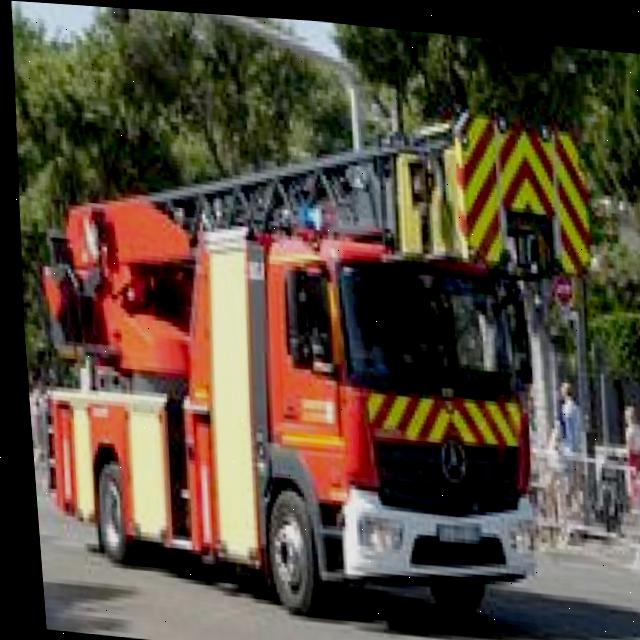emergency: (4, 73, 612, 640)
